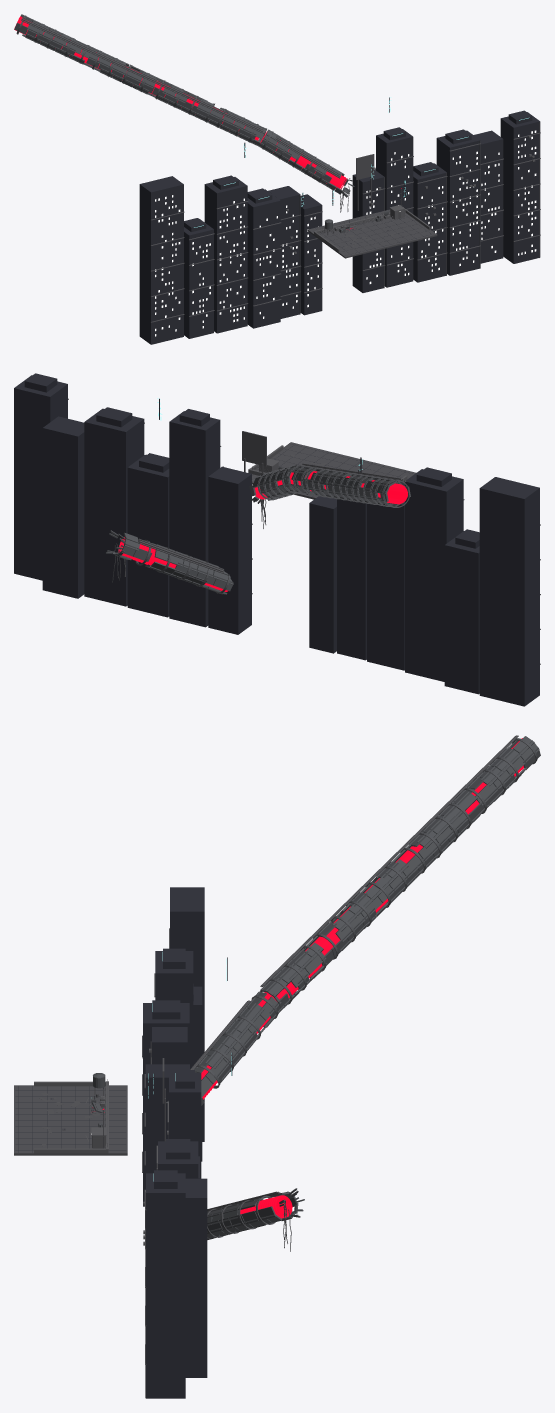
The model's file is neon_arena.glb.
The picture shows the model from 3 angles, top to bottom: view 1: azimuth 30°, elevation 25°; view 2: azimuth 150°, elevation 25°; view 3: azimuth 270°, elevation 25°; orthographic projection. The views are drawn at different scales.
Parts seen in each view (by area): view 1: SeveredLine; view 2: SeveredLine; view 3: SeveredLine.
Boxes of the visible parts, x1,y1,x2,y2 form: SeveredLine: [14, 14, 540, 344]; SeveredLine: [14, 373, 540, 706]; SeveredLine: [14, 735, 540, 1398].
Bounding box in the file's own units: 148 × 86.93 × 111.
